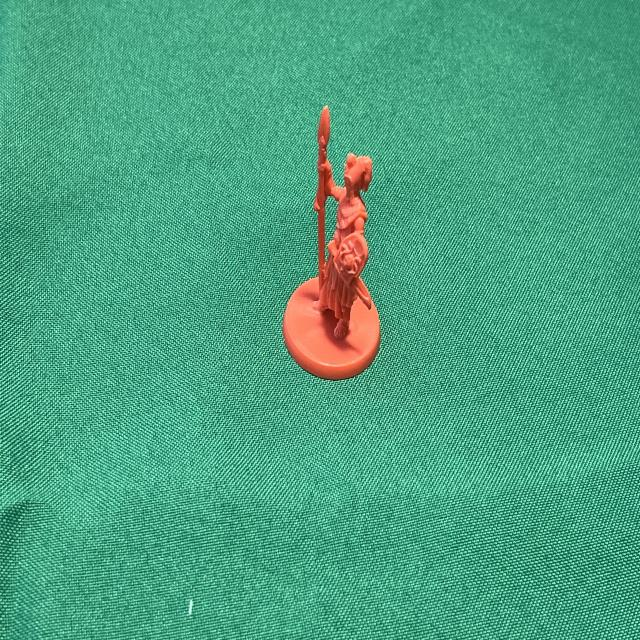amon_follower: (282, 107, 380, 380)
